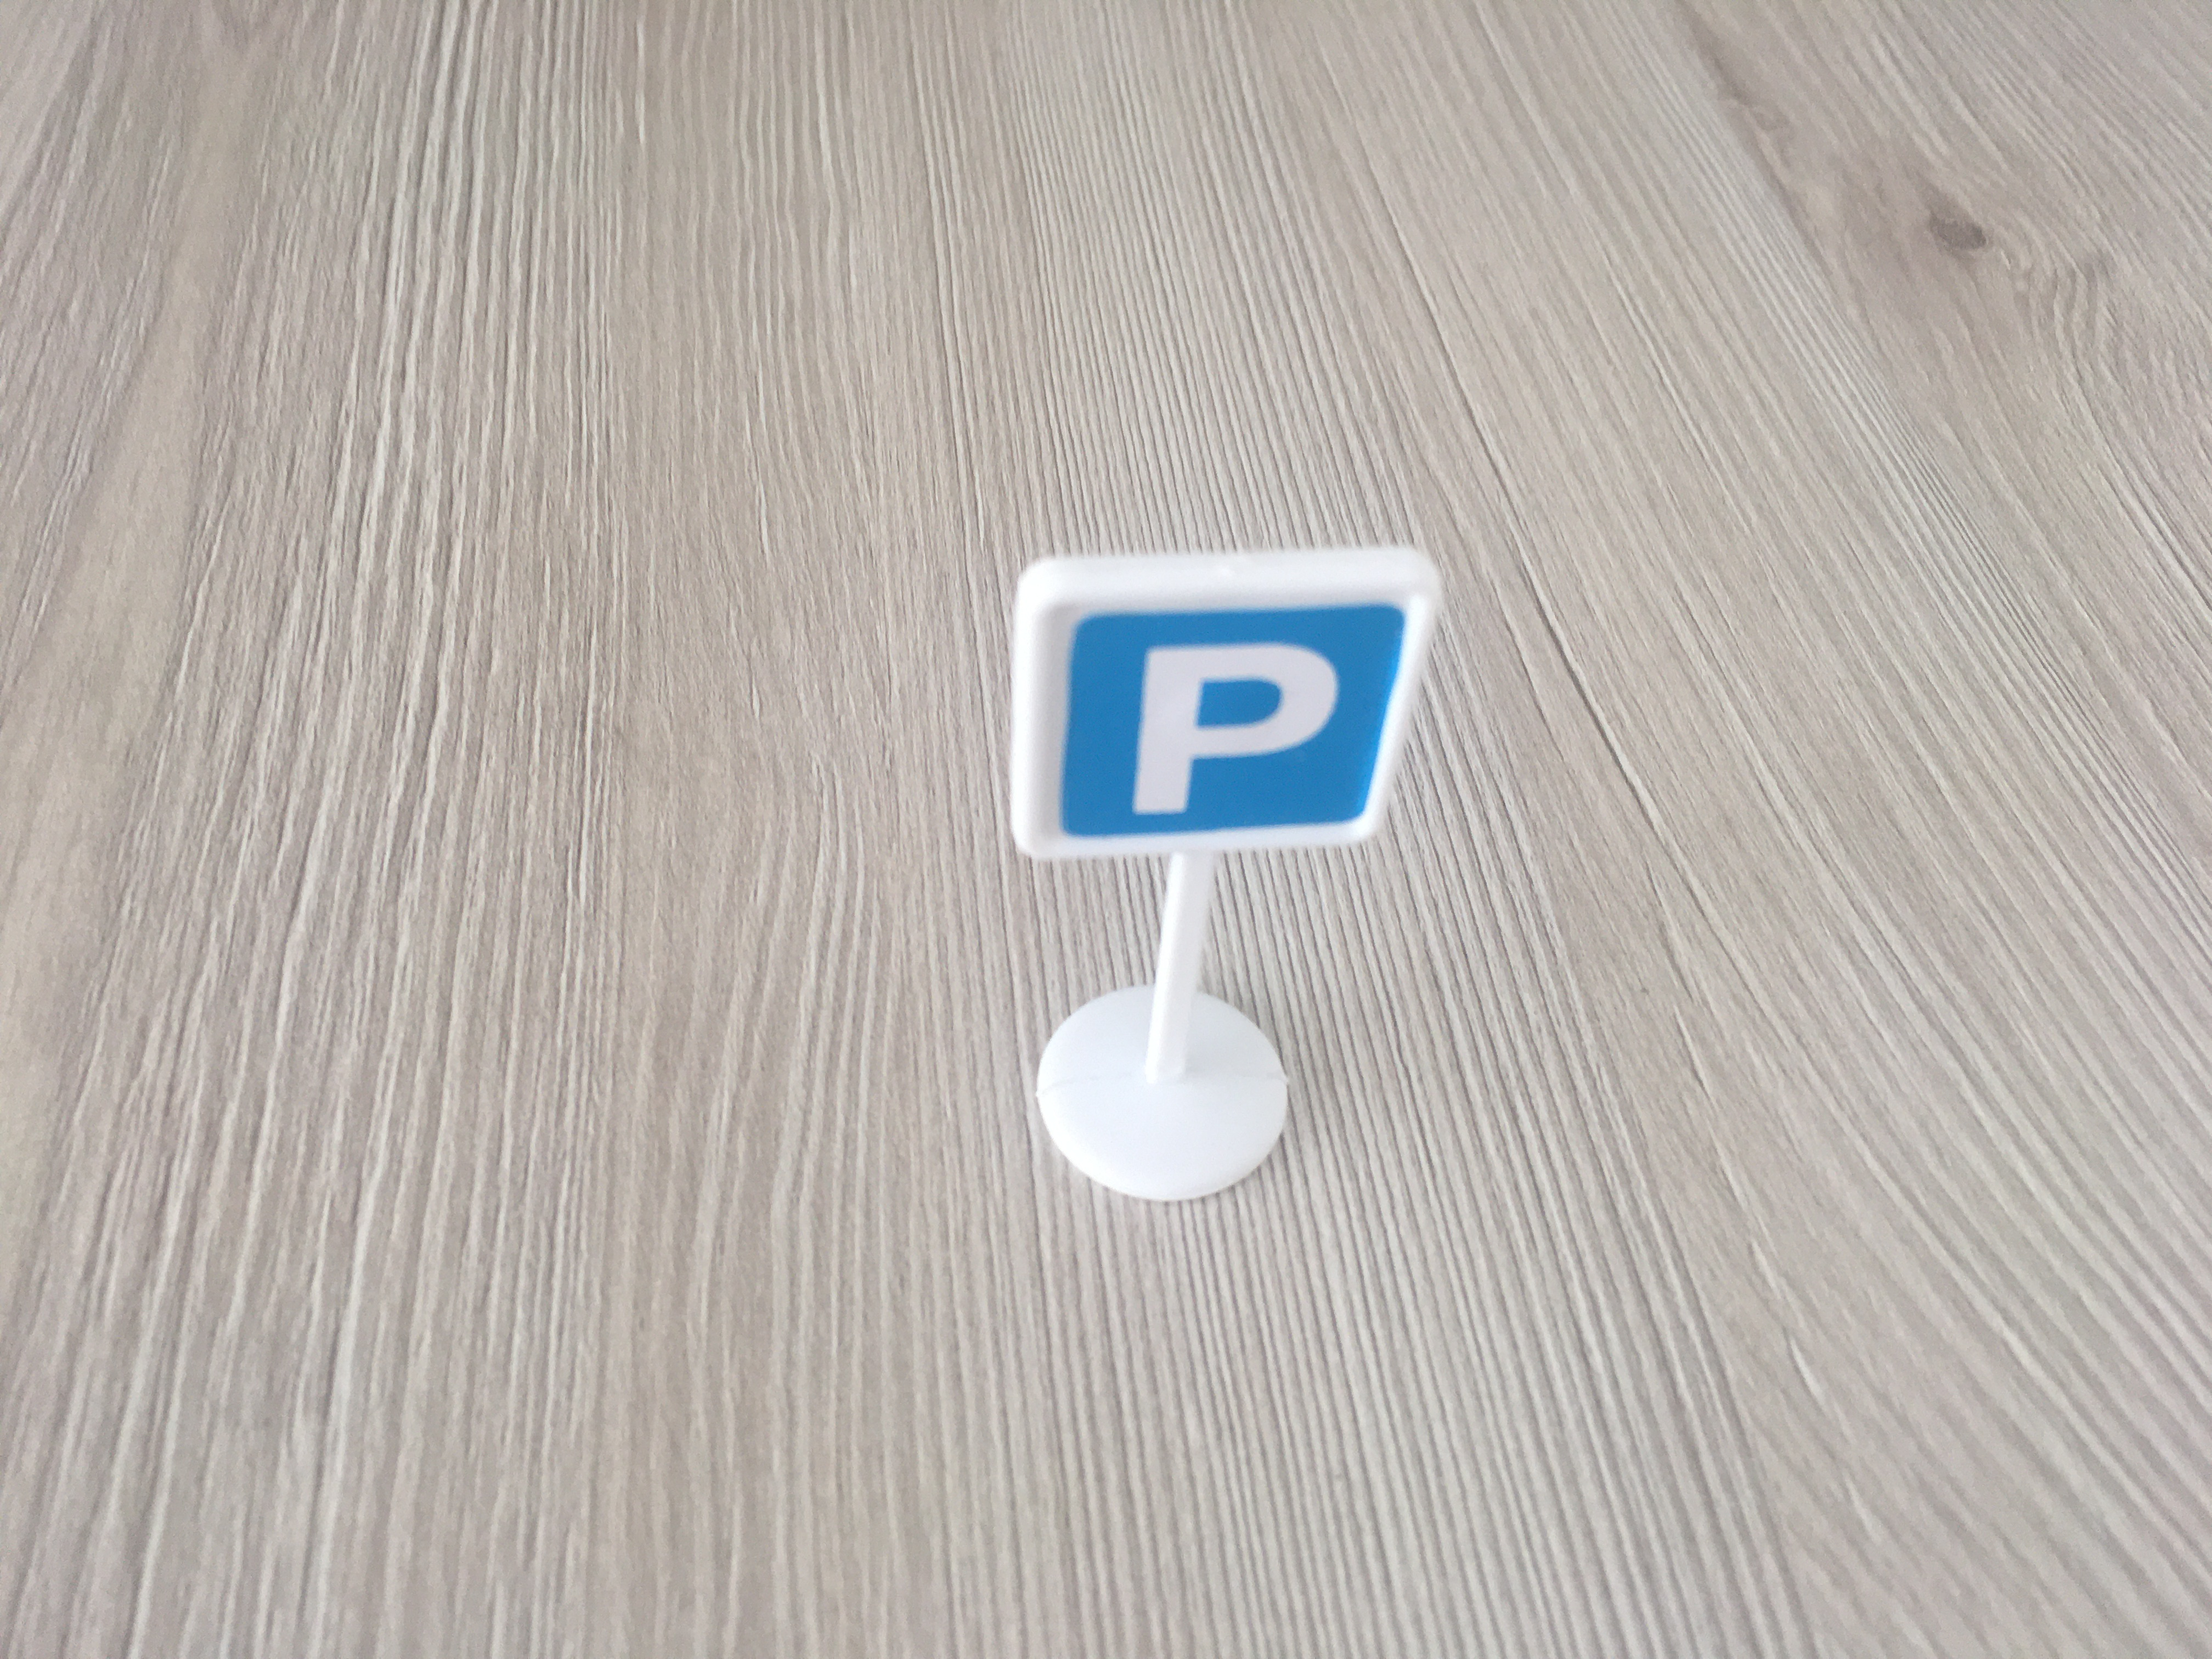parking: (1003, 552, 1451, 859)
